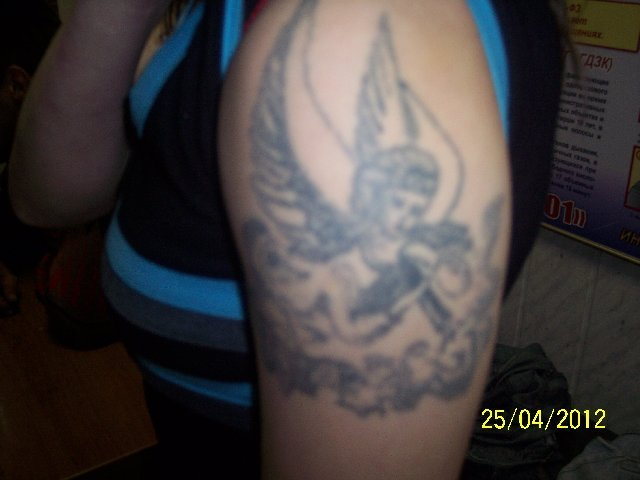tatu1_angel: (249, 20, 491, 361)
